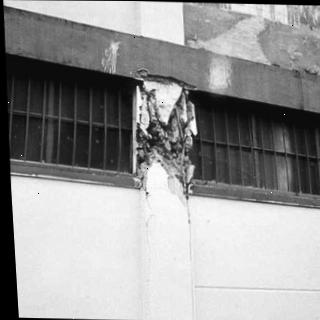spalling: (132, 68, 196, 200)
